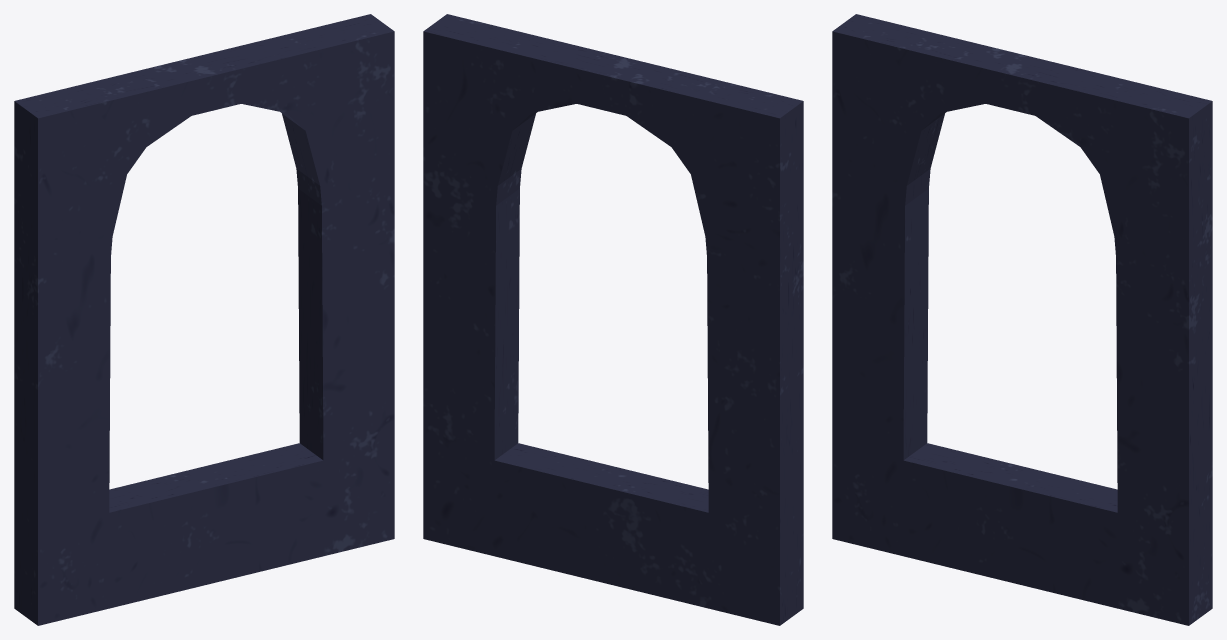
The model's file is w_Doorway.fbx.
3 views of the same model, side by side, from view 1: azimuth 30°, elevation 25°; view 2: azimuth 150°, elevation 25°; view 3: azimuth 330°, elevation 25° (orthographic).
Visible parts, largest first — view 1: w_Doorway; view 2: w_Doorway; view 3: w_Doorway.
Part boxes in pixels (x1,y1,x2,y2): w_Doorway: (14,14,394,625); w_Doorway: (423,14,803,625); w_Doorway: (832,14,1212,625).
Bounding box in the file's own units: 260 × 354 × 30.1.
1 material, 1 textured.
